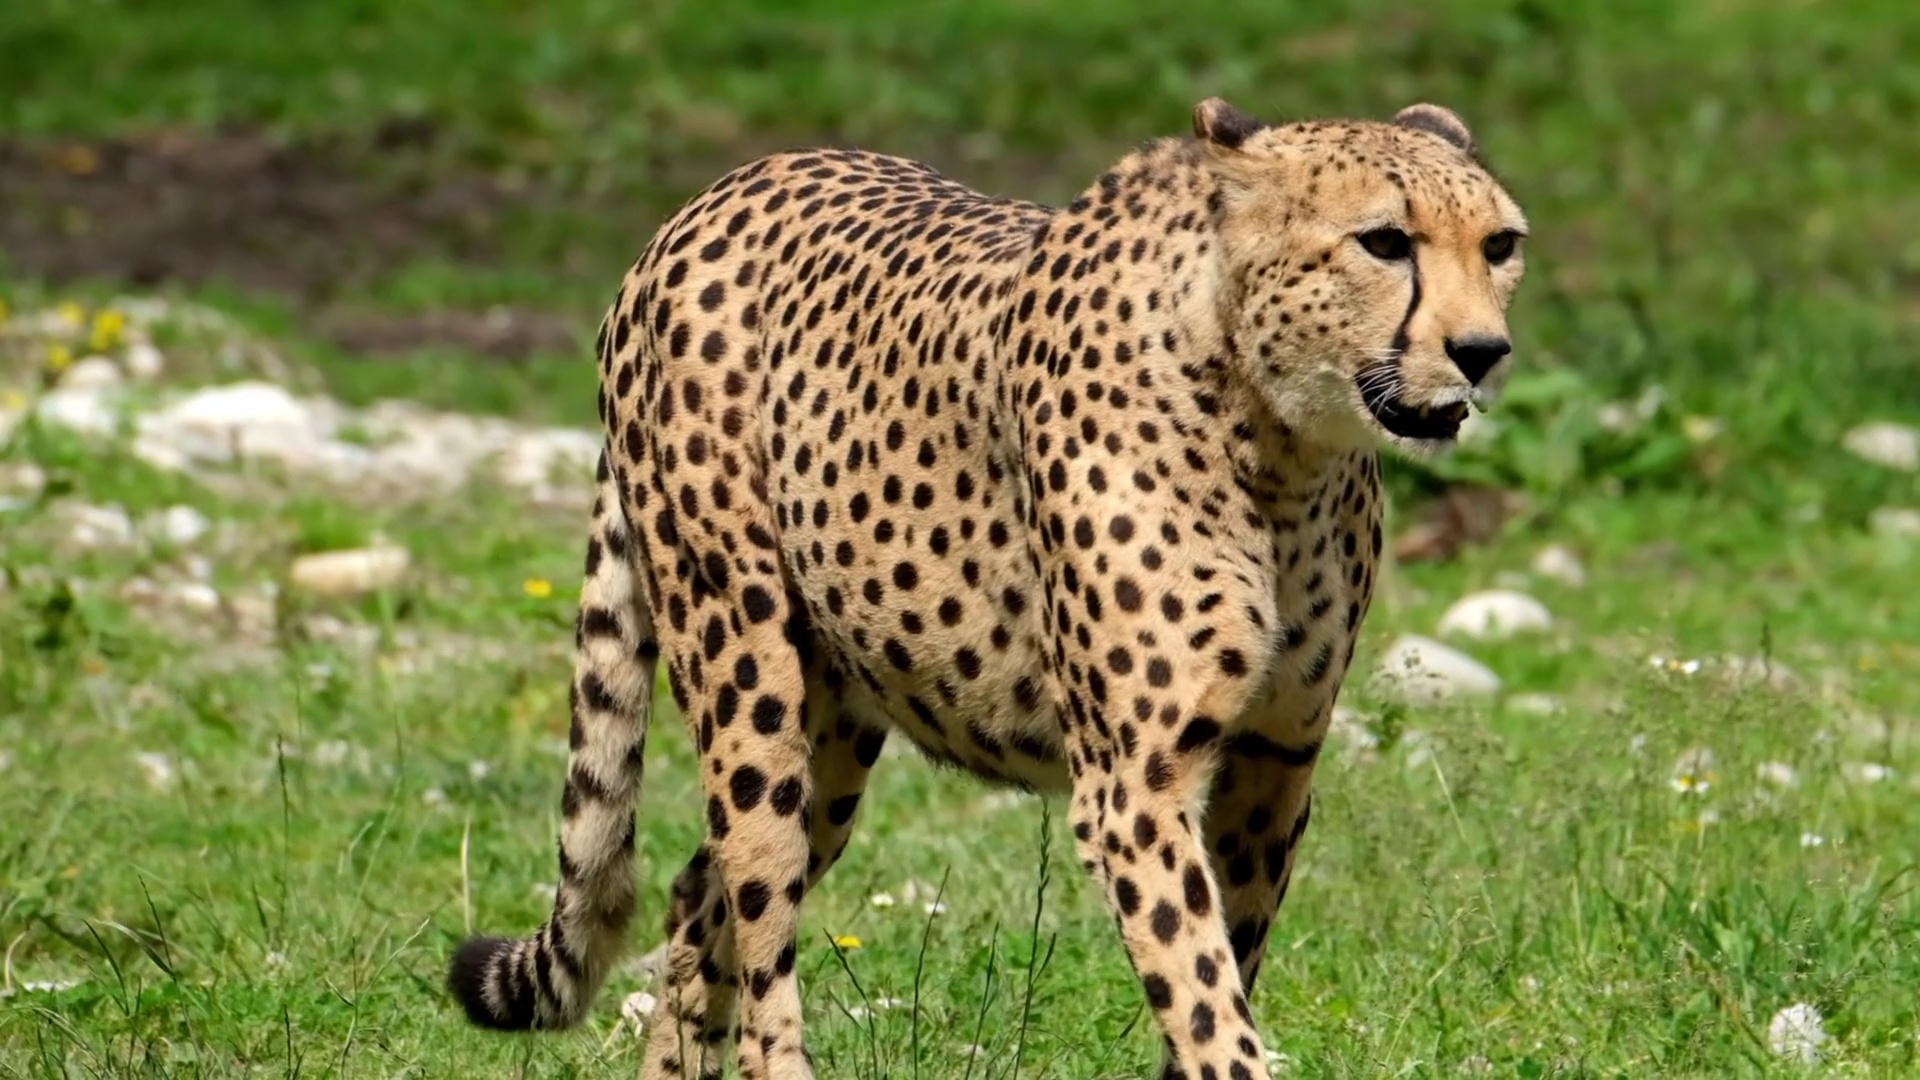Cheetah: (448, 94, 1532, 1080)
